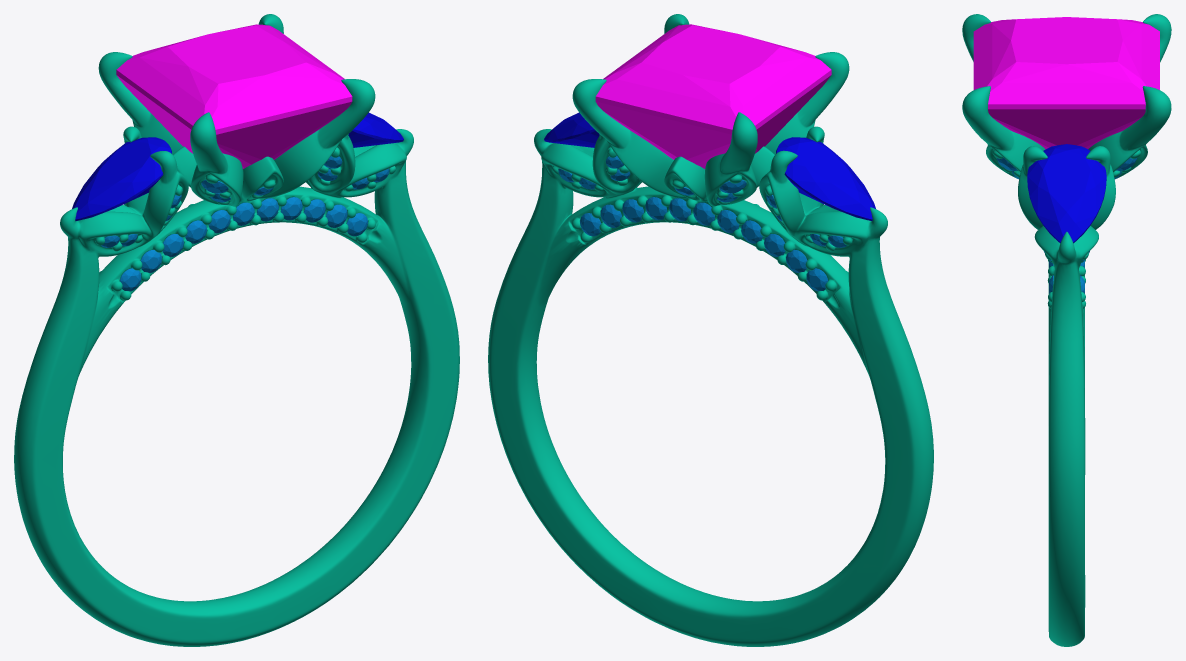
Rendered from BE1D375_PR_200ct_RENDER.glb.
3 views of the same model, side by side, from view 1: azimuth 30°, elevation 25°; view 2: azimuth 150°, elevation 25°; view 3: azimuth 270°, elevation 25° (orthographic).
Parts seen in each view (by area): view 1: Metal 01, CS_Diamond_Princess, Diamond_Pear_side, Diamond_Pear_side.001; view 2: Metal 01, CS_Diamond_Princess, Diamond_Pear_side, Diamond_Pear_side.001; view 3: Metal 01, CS_Diamond_Princess, Diamond_Pear_side.001.
Boxes of the visible parts, left/top/right/bottom form: Metal 01: left=14, top=14, right=459, bottom=646; CS_Diamond_Princess: left=116, top=24, right=352, bottom=168; Diamond_Pear_side: left=72, top=137, right=171, bottom=220; Diamond_Pear_side.001: left=348, top=112, right=403, bottom=147; Metal 01: left=488, top=14, right=933, bottom=646; CS_Diamond_Princess: left=595, top=24, right=831, bottom=168; Diamond_Pear_side: left=776, top=137, right=875, bottom=221; Diamond_Pear_side.001: left=544, top=112, right=599, bottom=147; Metal 01: left=962, top=14, right=1171, bottom=646; CS_Diamond_Princess: left=973, top=17, right=1159, bottom=149; Diamond_Pear_side.001: left=1027, top=144, right=1106, bottom=243.
Size of the model in its own units: 20.35 by 25.87 by 8.42.
